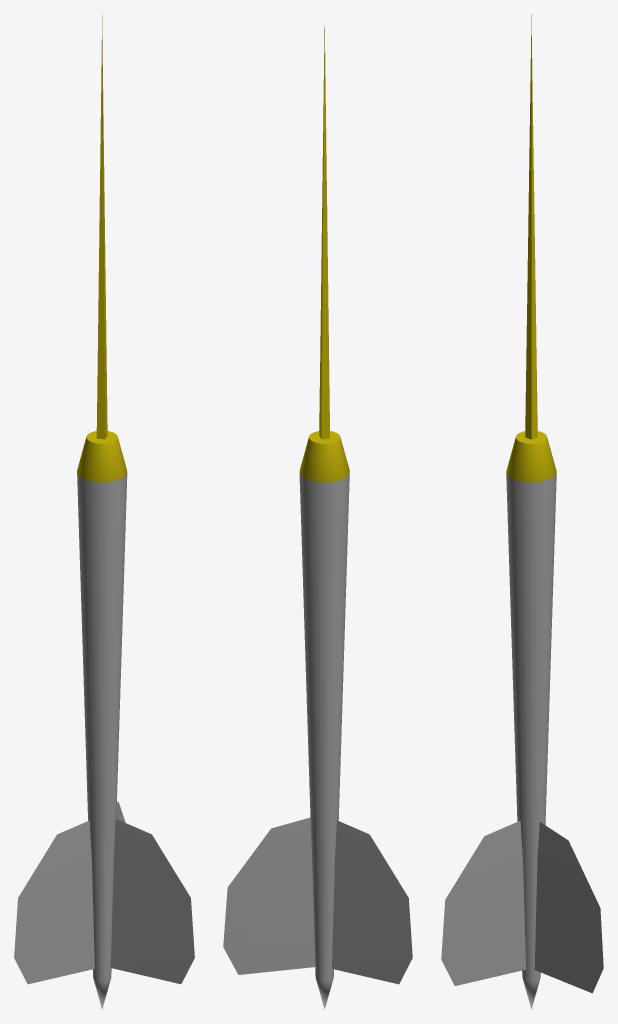
File: Dardo.fbx
3 renders of one model, left to right at view 1: azimuth 30°, elevation 25°; view 2: azimuth 150°, elevation 25°; view 3: azimuth 270°, elevation 25°, orthographic.
Visible parts, largest first — view 1: Dardo; view 2: Dardo; view 3: Dardo.
Boxes of the visible parts, x1=… form: Dardo: x1=14, y1=15, x2=194, y2=1009; Dardo: x1=223, y1=25, x2=412, y2=1009; Dardo: x1=441, y1=14, x2=603, y2=1009.
Bounding box in the file's own units: 2.06 × 12.76 × 1.89.
